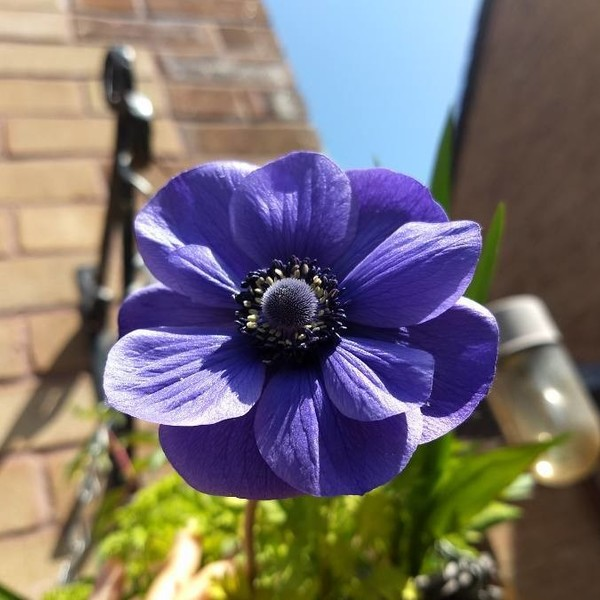obstacle: (76, 131, 483, 507)
